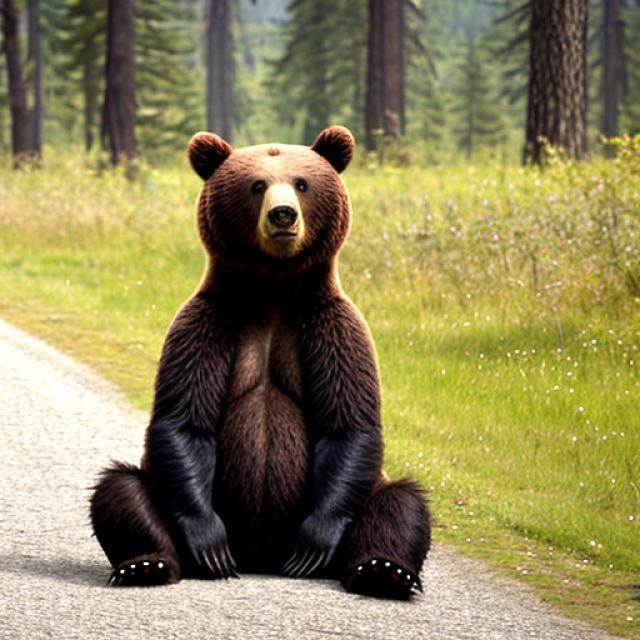bear: (201, 124, 367, 384)
